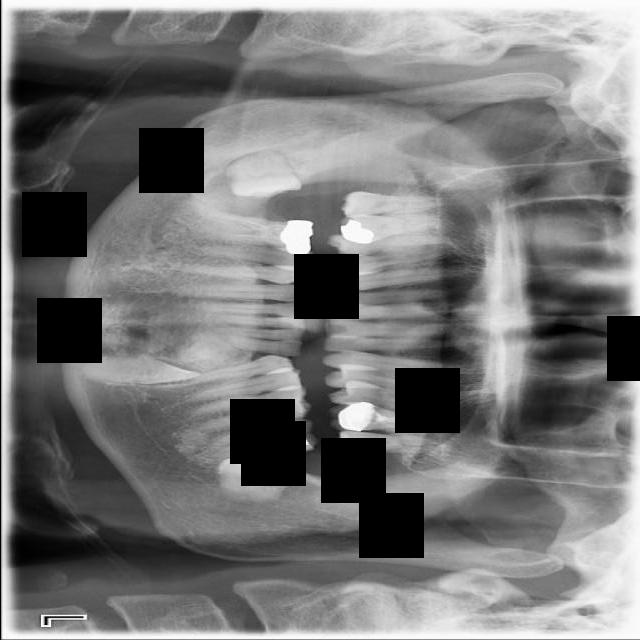52: (266, 416, 318, 456), (336, 211, 388, 247), (327, 401, 380, 431), (278, 217, 315, 257)
73: (196, 206, 286, 251), (367, 406, 452, 435), (56, 598, 66, 602)
BioHorizons Implant: (335, 431, 441, 455)
Biomet 3i Implant: (216, 453, 292, 504)
Blue Sky Bio Implant: (207, 417, 317, 461)
Caries: (340, 190, 449, 217)
Keystone Dental Implant: (223, 148, 301, 202)
